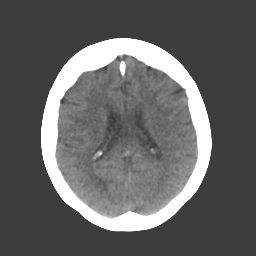ischemic: (88, 115, 106, 138)
